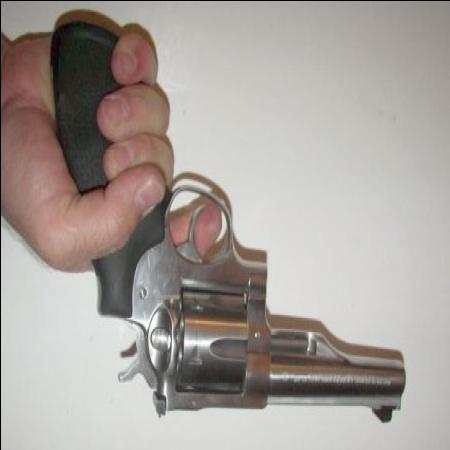Pistol: (51, 26, 404, 428)
